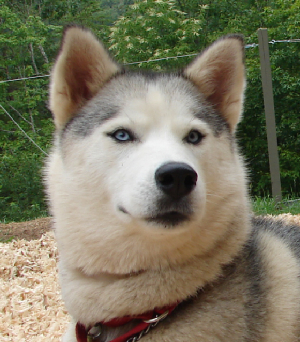dog: (34, 24, 298, 340)
